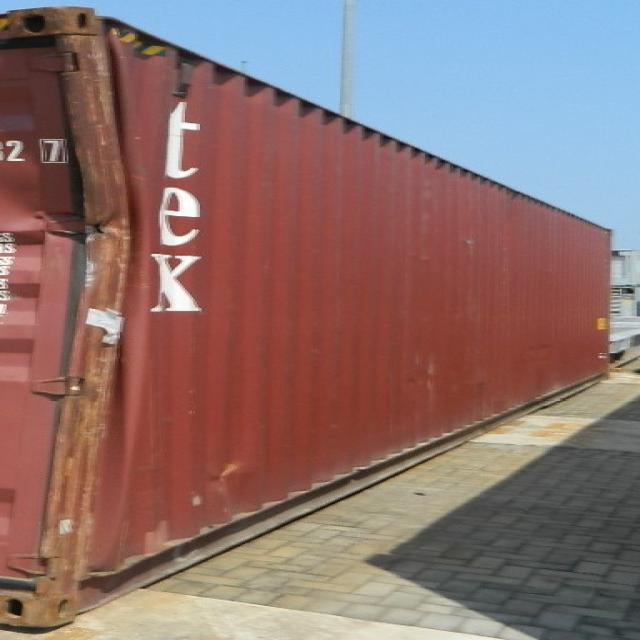dent: (1, 2, 204, 491)
